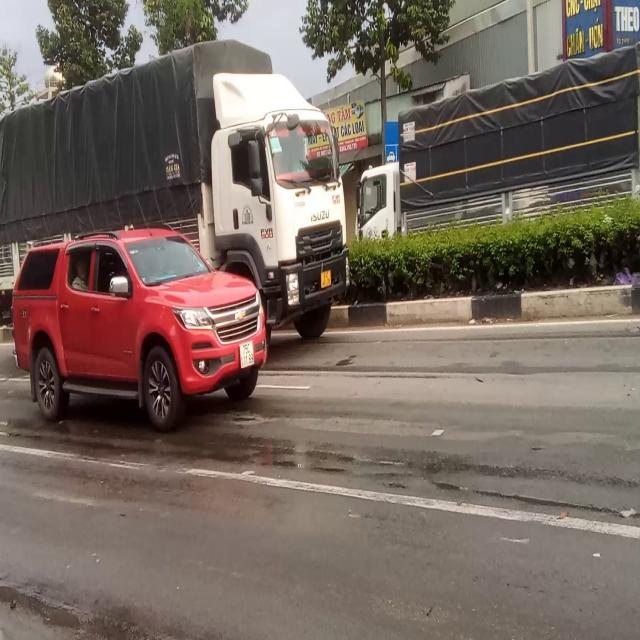bien_trang: (241, 339, 253, 371)
bien_vang: (322, 269, 332, 292)
